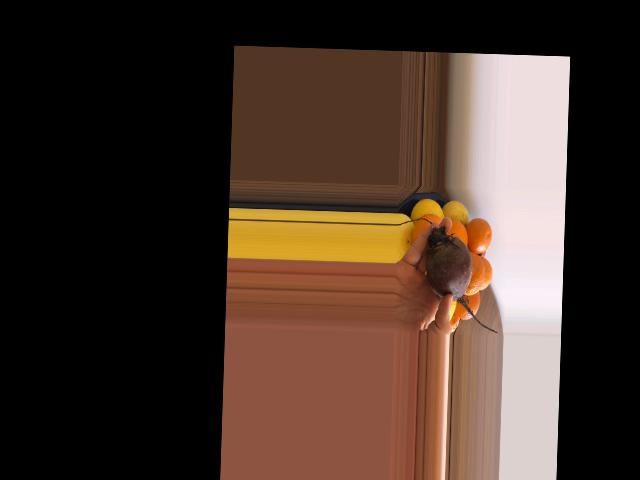beet: (423, 227, 500, 332)
